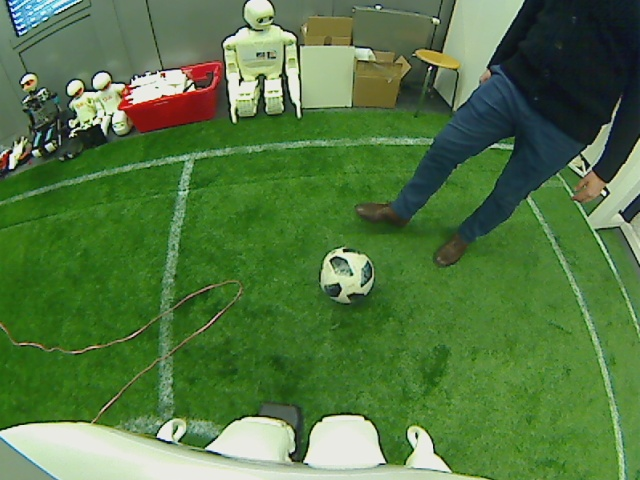ball: (317, 244, 375, 304)
